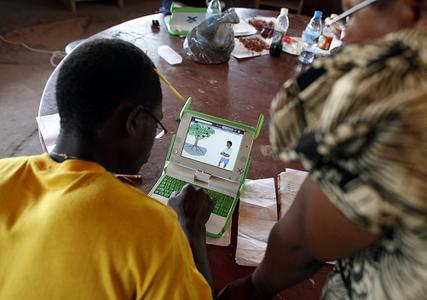person: (1, 40, 213, 300)
